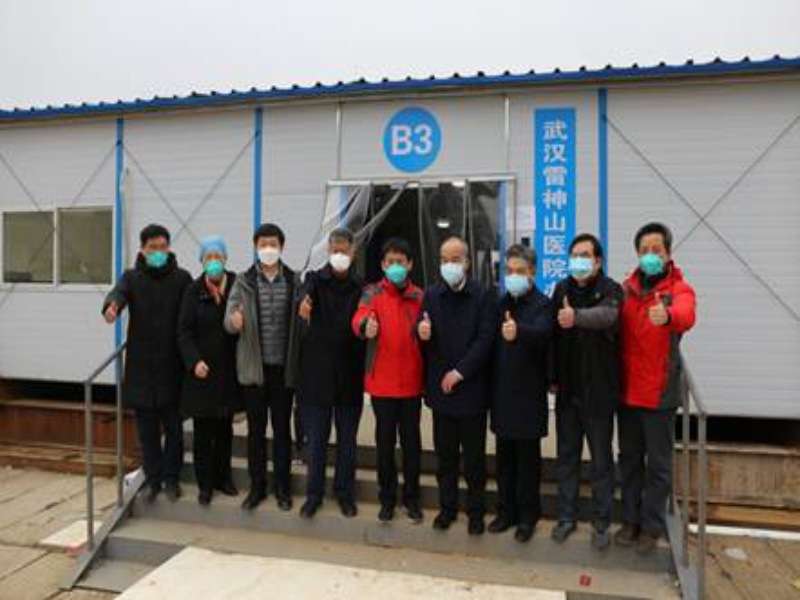ManaoArotava: (628, 218, 679, 293), (374, 232, 423, 293), (129, 219, 178, 278), (500, 240, 544, 305), (561, 227, 606, 289), (195, 237, 237, 293), (435, 237, 476, 291), (324, 226, 359, 287), (251, 219, 288, 274)
